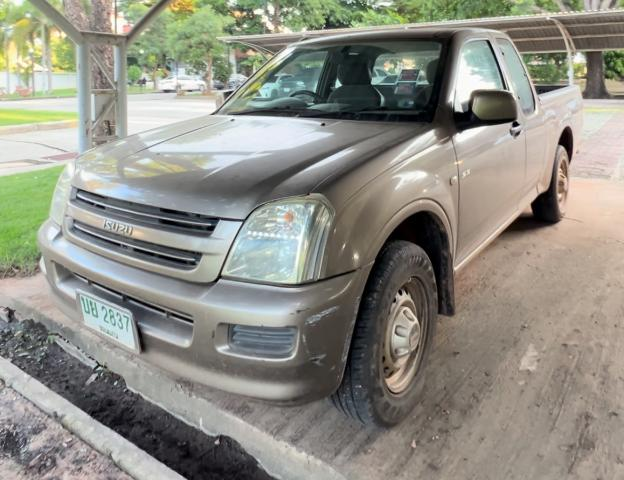pickup-truck: (37, 26, 586, 431)
